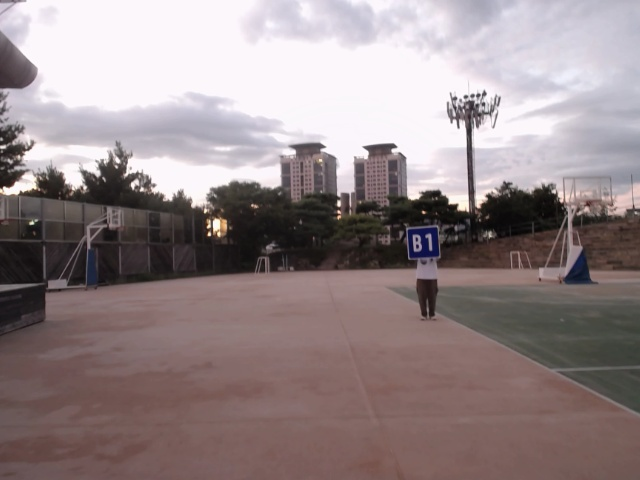delivery_b1: (407, 227, 440, 260)
